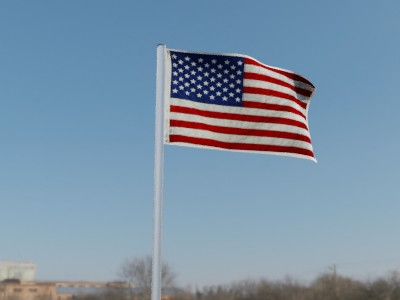America flag: (164, 48, 322, 167)
